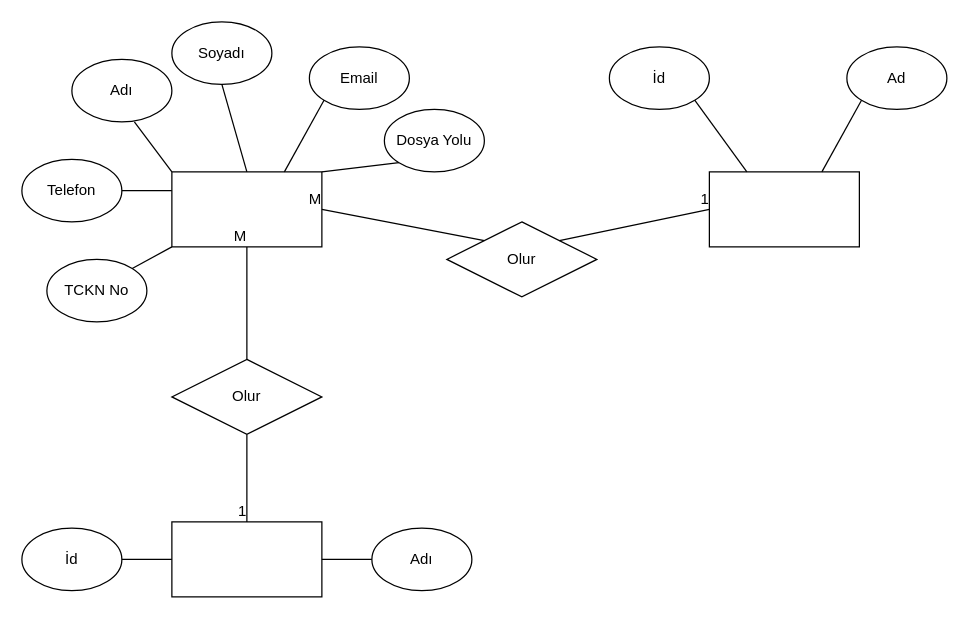
Some shapes in this 969 by 619 pixel diagram are drawn without their labels. Here are the shapes that lost their labels. From the top down, the centre of each, then its label:
At (246,209): "Şikayet".
At (783,209): "Konu".
At (246,559): "İletişim".
